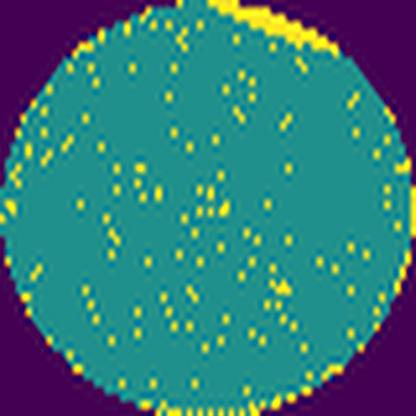Edge-Loc: (199, 0, 352, 63)
